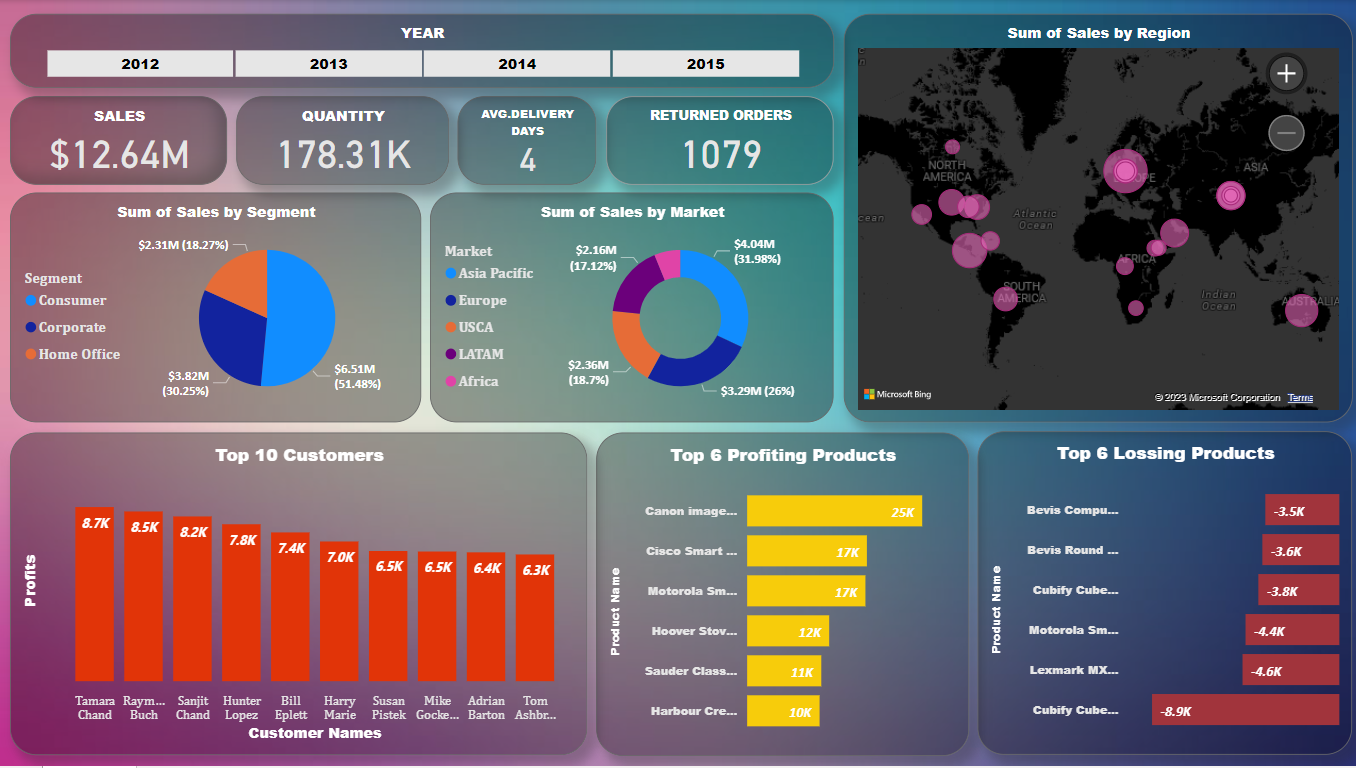

The page's visual inventory and layout, read from the dashboard file:
{"tool":"powerbi","page":{"name":"Page 1","canvas":[1280,720],"ordinal":0},"visuals":[{"type":"card","title":"SALES","fields":{"Values":["Orders.Sales"]},"box":[9.4,90.4,204.4,83.4],"z":0},{"type":"card","title":"QUANTITY","fields":{"Values":["Orders.Quantity"]},"box":[222,90.4,199.7,83.4],"z":1000},{"type":"card","title":"AVG.DELIVERY DAYS","fields":{"Values":["Orders.Delivery Days"]},"box":[429.9,90.4,130.4,83.4],"z":2000},{"type":"slicer","title":"YEAR","fields":{"Values":["Orders.Year"]},"box":[9.4,12.9,774,69.3],"z":3000},{"type":"card","title":"RETURNED ORDERS","fields":{"Values":["Returns.Return orders"]},"box":[569.7,90.4,213.8,83.4],"z":4000},{"type":"map","fields":{"Category":["Orders.Region"],"Size":["Orders.Sales"]},"box":[792.8,12.9,478,384.1],"z":5000},{"type":"barChart","title":"Top 6 Profiting  Products","fields":{"Category":["Orders.Product Name"],"Y":["Orders.Profit"]},"box":[560.3,406.4,350,304.2],"z":6000},{"type":"barChart","title":"Top 6 Lossing  Products","fields":{"Category":["Orders.Product Name"],"Y":["Orders.Profit"]},"box":[918.5,405.2,352.4,304.2],"z":7000},{"type":"pieChart","fields":{"Y":["Orders.Sales"],"Category":["Orders.Segment"]},"box":[9.4,180.9,386.4,216.1],"z":7001},{"type":"donutChart","fields":{"Y":["Orders.Sales"],"Category":["Orders.Market"]},"box":[404,180.9,379.4,216.1],"z":7002},{"type":"columnChart","title":"Top 10 Customers","fields":{"Category":["Orders.Customer Name"],"Y":["Orders.Profit"]},"box":[9.4,406.4,542.6,303],"z":7003}]}

Visuals, with their boxes in screenshot pixels (x1, y1, x2, y2), scaled from the page's 1280x720 canvas onto the 1356x768 screenshot:
"SALES" card: box=[10, 96, 226, 185]
"QUANTITY" card: box=[235, 96, 447, 185]
"AVG.DELIVERY DAYS" card: box=[455, 96, 594, 185]
"YEAR" slicer: box=[10, 14, 830, 88]
"RETURNED ORDERS" card: box=[604, 96, 830, 185]
map - Orders.Region x Orders.Sales: box=[840, 14, 1346, 423]
"Top 6 Profiting  Products" barChart: box=[594, 433, 964, 758]
"Top 6 Lossing  Products" barChart: box=[973, 432, 1346, 757]
pieChart - Orders.Sales x Orders.Segment: box=[10, 193, 419, 423]
donutChart - Orders.Sales x Orders.Market: box=[428, 193, 830, 423]
"Top 10 Customers" columnChart: box=[10, 433, 585, 757]
